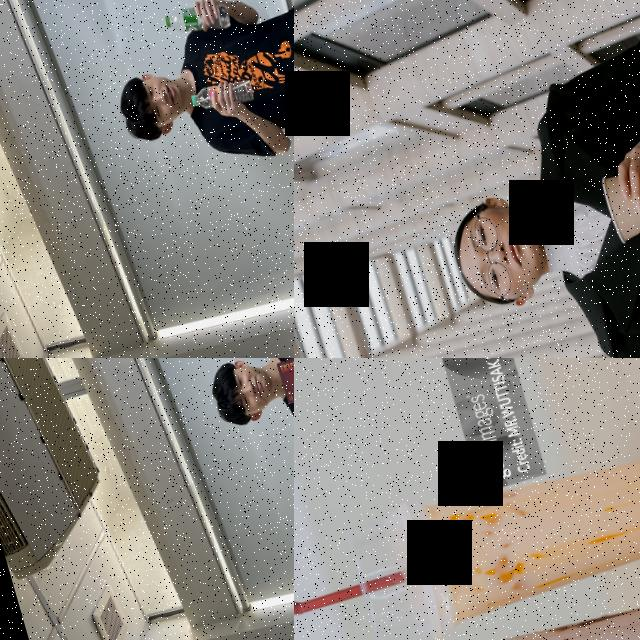bottle: (160, 0, 232, 44), (188, 72, 256, 116)
cup: (338, 417, 640, 640), (377, 566, 640, 640), (596, 150, 640, 250)
